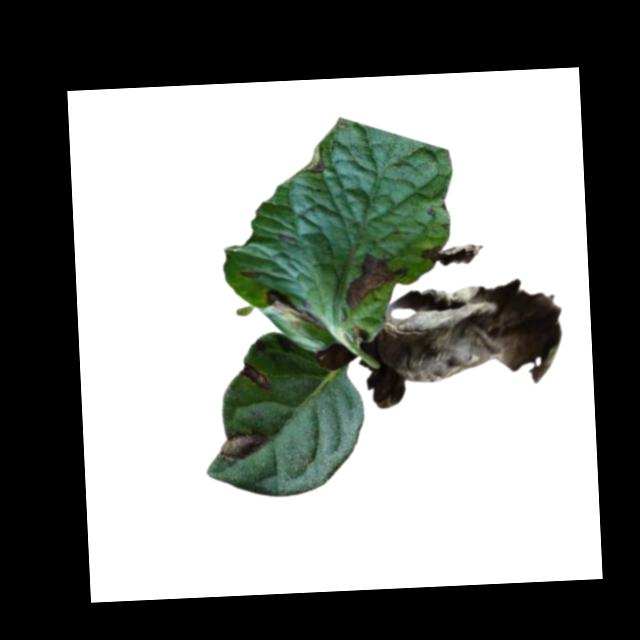Early_blight: (363, 282, 567, 408), (340, 253, 411, 309), (264, 286, 326, 335), (217, 430, 272, 466), (419, 239, 484, 268), (236, 358, 271, 393), (306, 157, 324, 174)
